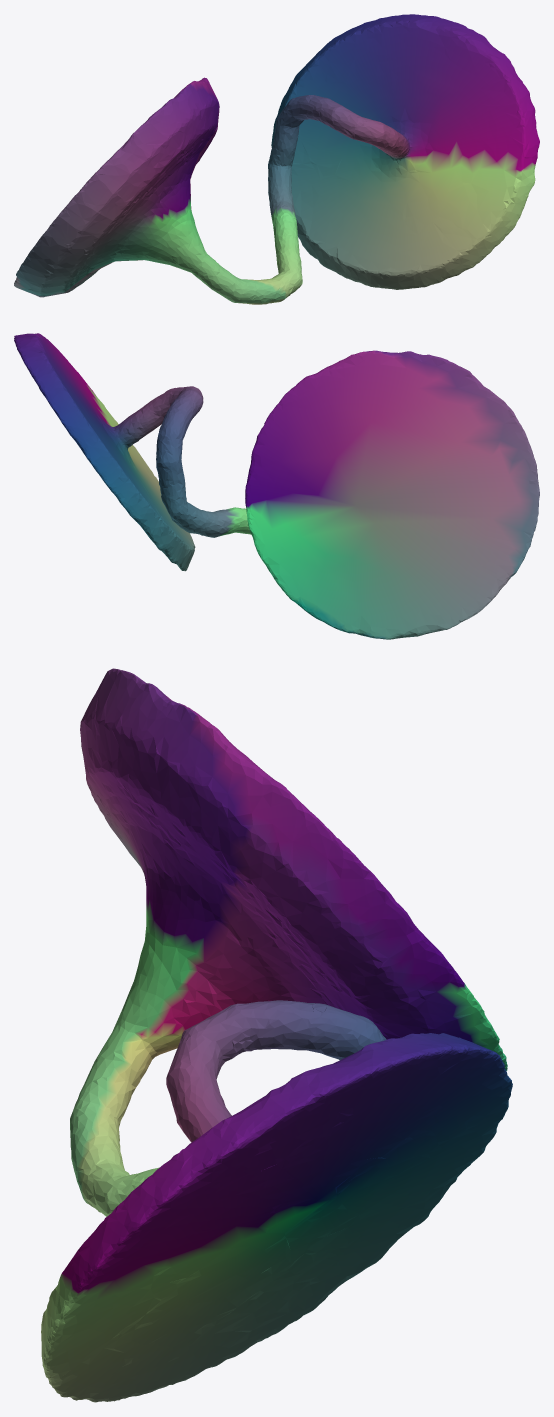
Rendered from lamp-15.off.obj.
3 views of the same model, one above another, from view 1: azimuth 30°, elevation 25°; view 2: azimuth 150°, elevation 25°; view 3: azimuth 270°, elevation 25° (orthographic). The views are drawn at different scales.
Size of the model in its own units: 1.78 by 0.8447 by 0.7354.
